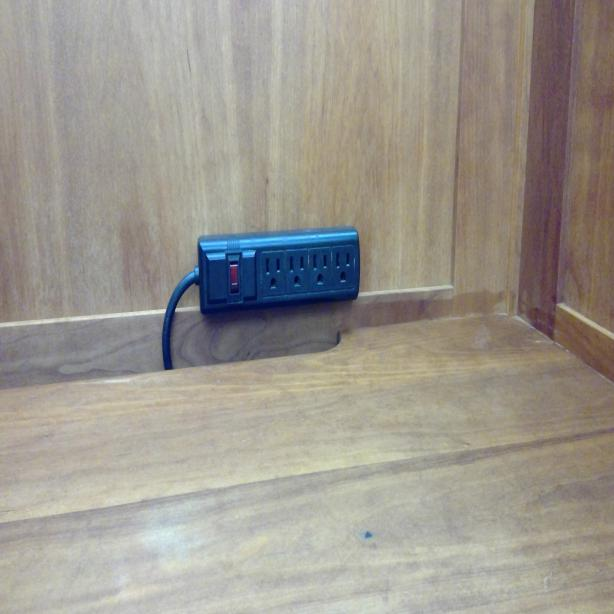typeb: (261, 253, 284, 296), (308, 247, 331, 287), (286, 252, 306, 290), (332, 246, 352, 282)
